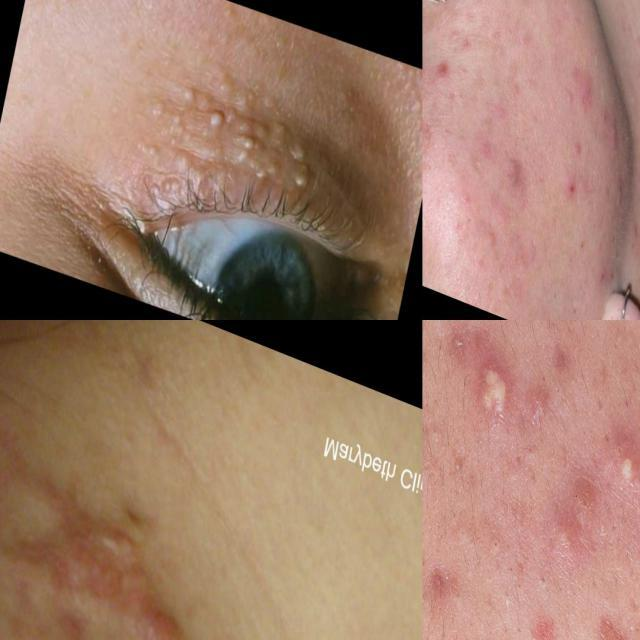Pimples: (3, 456, 264, 640), (466, 344, 521, 446), (591, 92, 637, 168), (169, 147, 239, 194), (585, 588, 640, 640), (210, 64, 263, 116), (140, 96, 190, 150), (600, 431, 640, 498), (502, 124, 534, 205), (479, 505, 516, 567), (542, 366, 577, 416), (578, 56, 608, 114), (426, 44, 461, 88), (263, 113, 295, 155), (528, 550, 556, 598), (205, 100, 232, 138), (134, 138, 165, 164), (233, 131, 258, 163), (154, 172, 183, 198), (287, 167, 313, 190)
